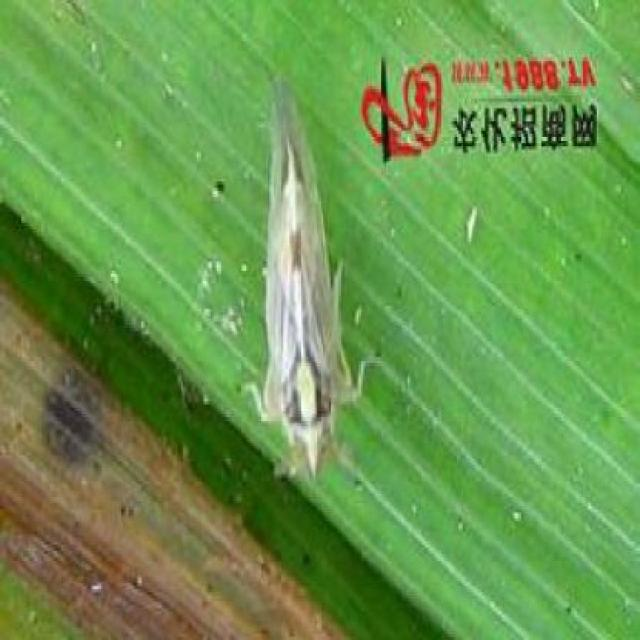brown-planthopper: (252, 69, 359, 489)
